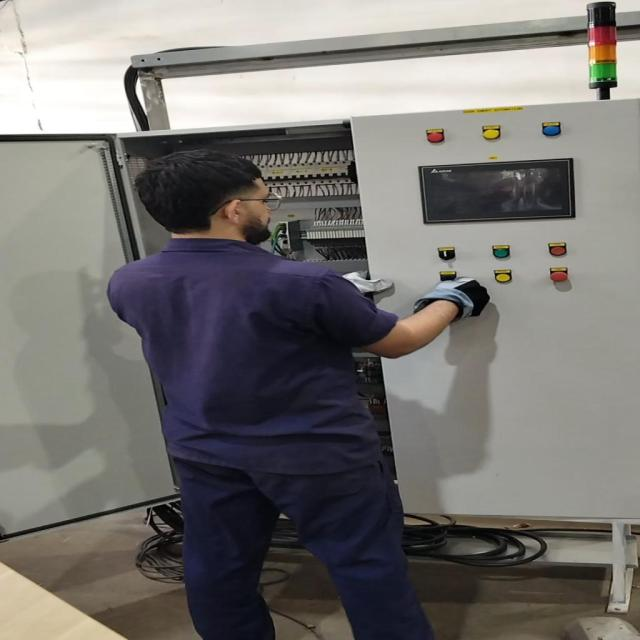Gloves-Detection: (410, 280, 484, 317), (343, 268, 388, 291)
